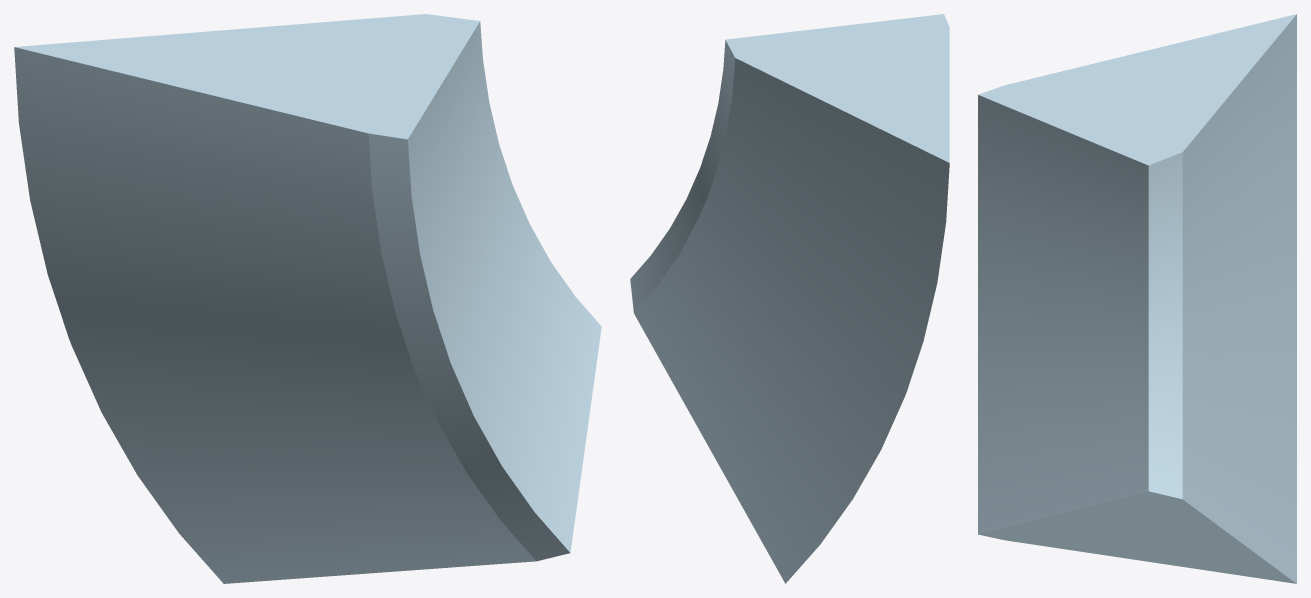
The model's file is Sub_2_Cell_3_3.gltf.
3 renders of one model, left to right at view 1: azimuth 30°, elevation 25°; view 2: azimuth 150°, elevation 25°; view 3: azimuth 270°, elevation 25°, orthographic. The views are drawn at different scales.
Visible parts, largest first — view 1: Sub_2_Cell_3_3; view 2: Sub_2_Cell_3_3; view 3: Sub_2_Cell_3_3.
Boxes of the visible parts, x1,y1,x2,y2 form: Sub_2_Cell_3_3: (14,14,601,583); Sub_2_Cell_3_3: (630,14,949,583); Sub_2_Cell_3_3: (978,14,1296,583).
Bounding box in the file's own units: 0.0726 × 0.082 × 0.0488.
